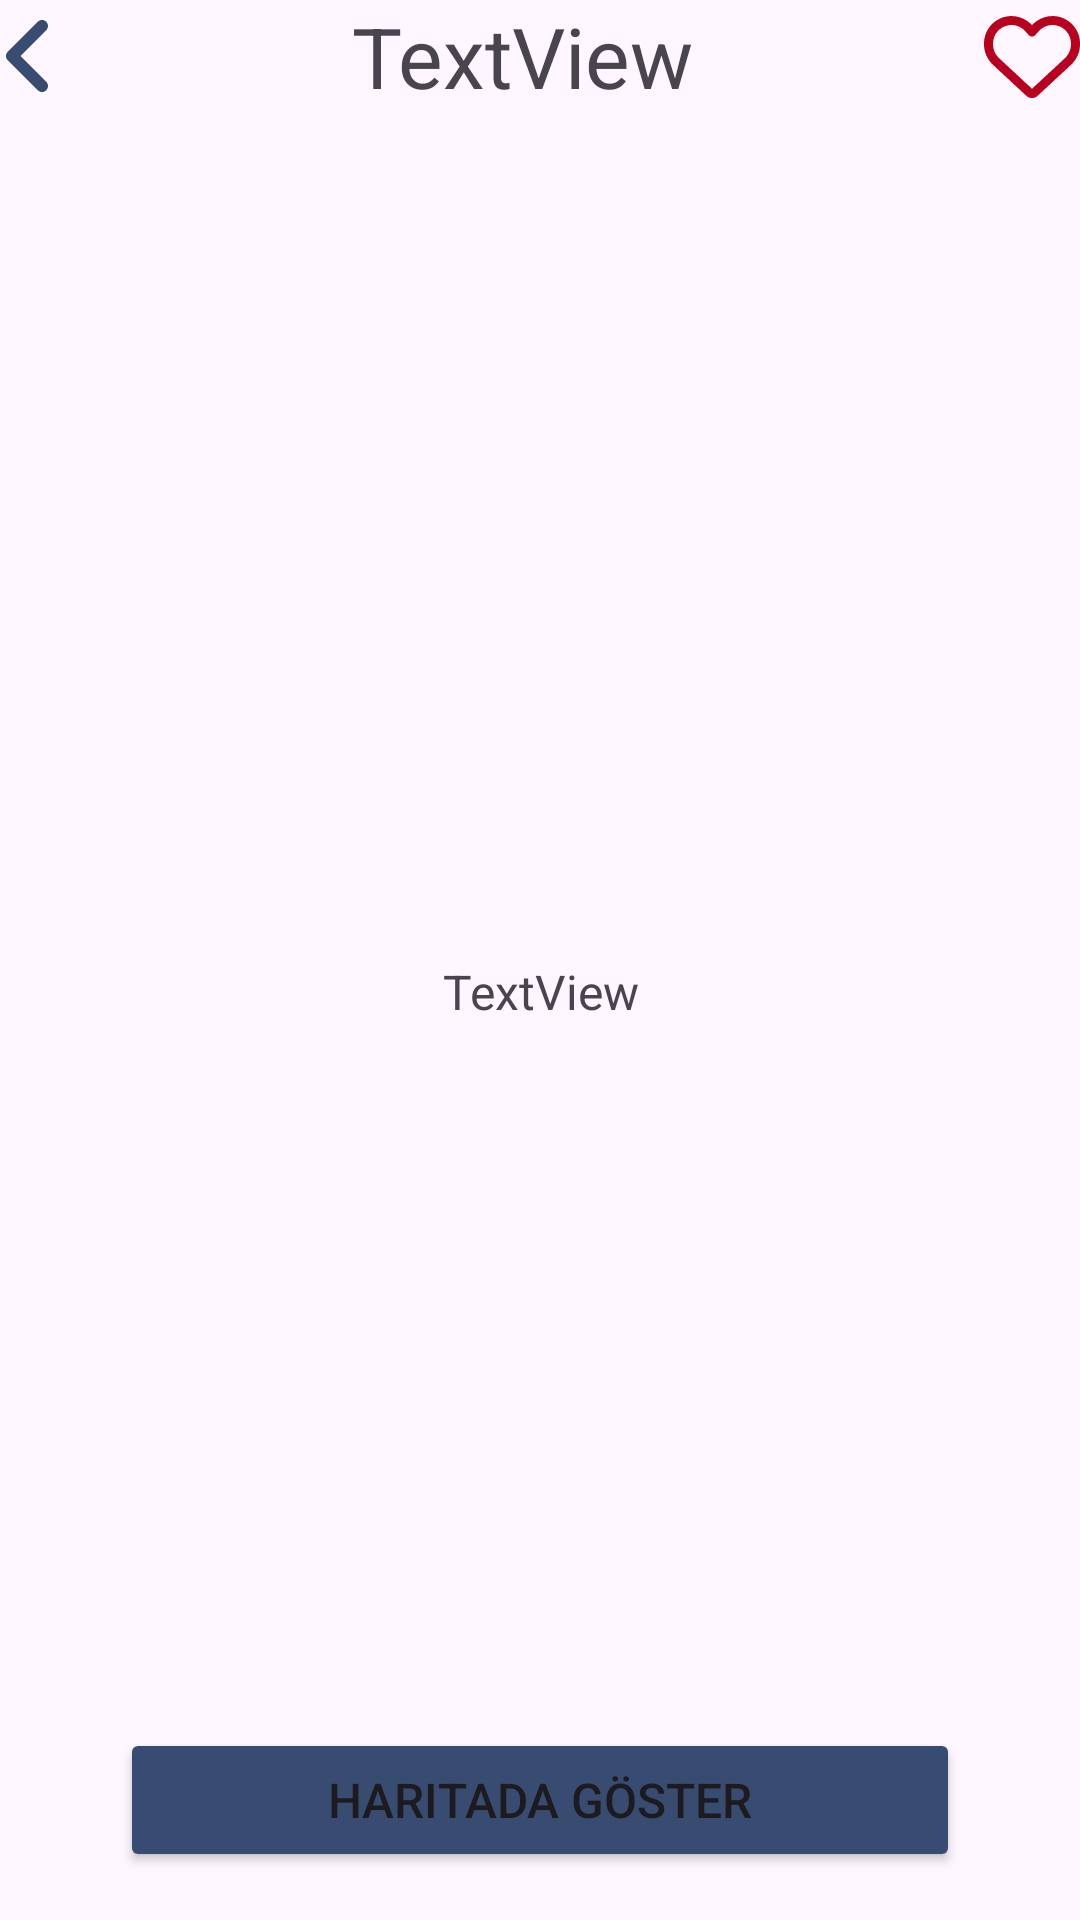

Where to tap for icons on this 1080w x 1920h app screen, as (x,y):
arrow left: (27,56)
favorites border: (1032,57)
